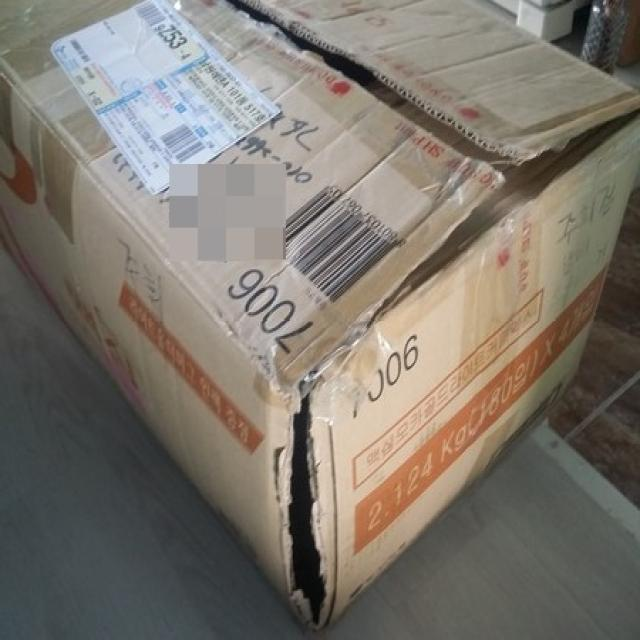tear: (275, 378, 336, 632)
